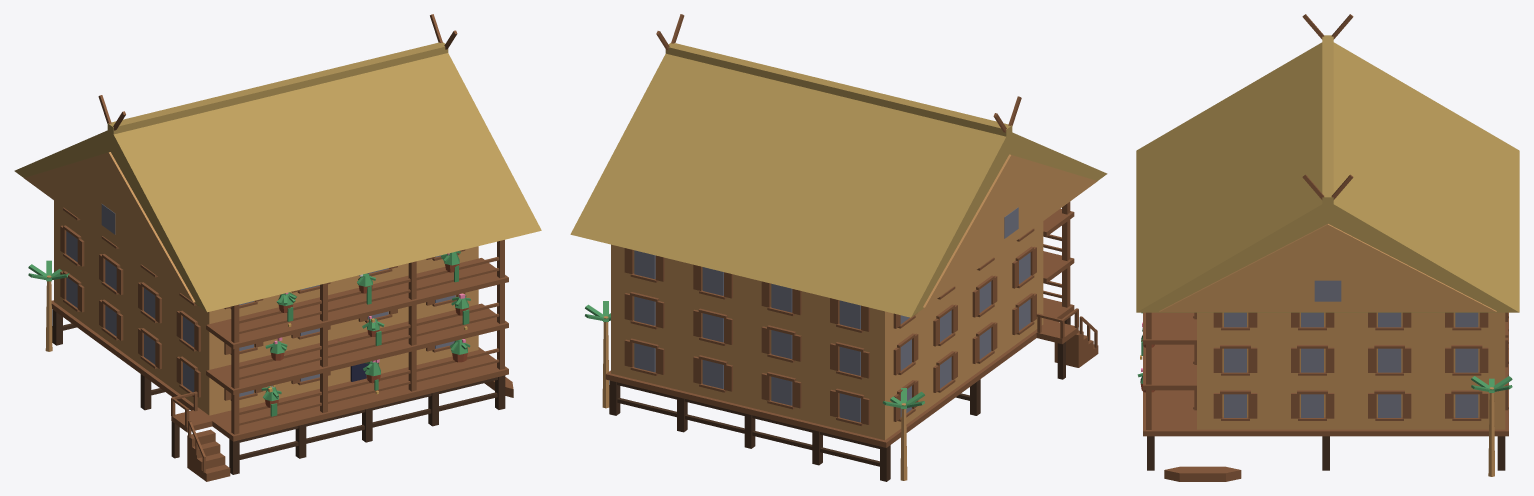
File: house-2x2-3f-stilt-a.glb
The picture shows the model from 3 angles, left to right: view 1: azimuth 30°, elevation 25°; view 2: azimuth 150°, elevation 25°; view 3: azimuth 270°, elevation 25°; orthographic projection. The views are drawn at different scales.
Parts seen in each view (by area): view 1: house-2x2-3f-stilt-a; view 2: house-2x2-3f-stilt-a; view 3: house-2x2-3f-stilt-a.
Part boxes in pixels (bbox=[...]): house-2x2-3f-stilt-a: bbox=[14, 14, 541, 481]; house-2x2-3f-stilt-a: bbox=[570, 14, 1107, 481]; house-2x2-3f-stilt-a: bbox=[1136, 14, 1519, 481].
Bounding box in the file's own units: 2.02 × 1.77 × 1.99.
1 material, 1 textured.
